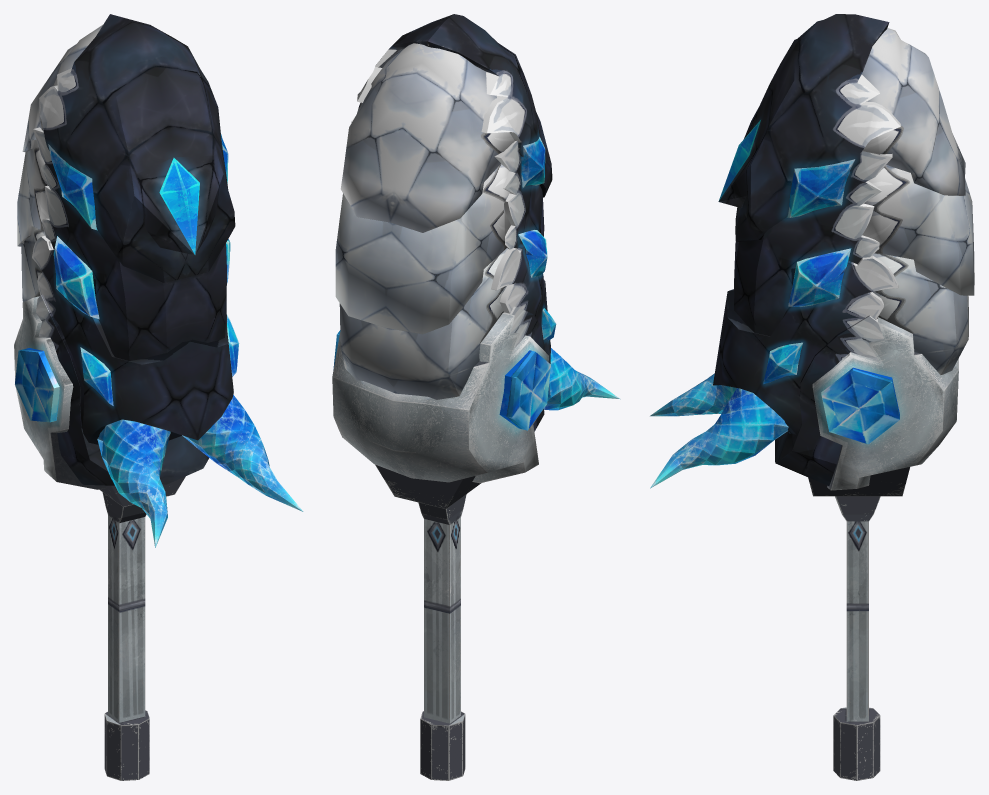
The model's file is Heammer.fbx.
3 renders of one model, left to right at view 1: azimuth 30°, elevation 25°; view 2: azimuth 150°, elevation 25°; view 3: azimuth 270°, elevation 25°, orthographic.
Parts seen in each view (by area): view 1: U1, Stick, Gem; view 2: Gem, U1, Stick; view 3: U1, Gem, Stick.
Boxes of the visible parts, x1,y1,x2,y2 form: U1: (32, 14, 303, 547); Stick: (99, 476, 185, 780); Gem: (14, 25, 106, 489); Gem: (332, 43, 550, 483); U1: (351, 14, 620, 431); Stick: (375, 464, 481, 780); U1: (650, 14, 900, 488); Gem: (812, 28, 974, 490); Stick: (808, 467, 909, 780).
Bounding box in the file's own units: 0.5882 × 2.35 × 0.9168.
